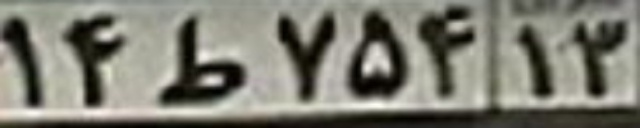1: (0, 17, 41, 106), (514, 23, 554, 96)
3: (571, 18, 631, 96)
4: (63, 13, 125, 106), (417, 6, 476, 96)
5: (348, 9, 409, 96)
7: (272, 9, 337, 100)
taa: (156, 15, 245, 105)
